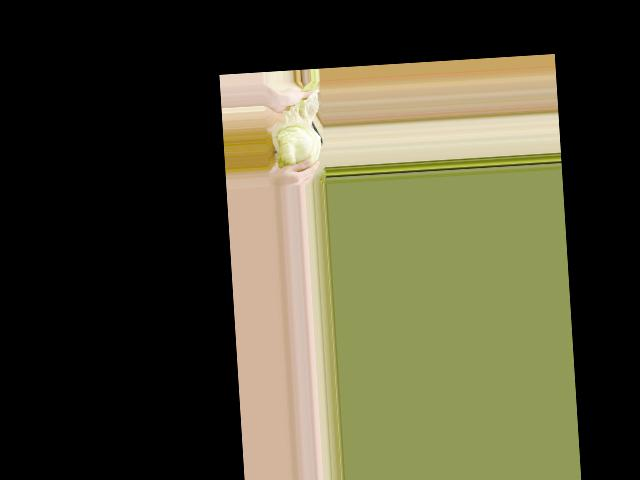lettuce: (267, 109, 324, 173)
